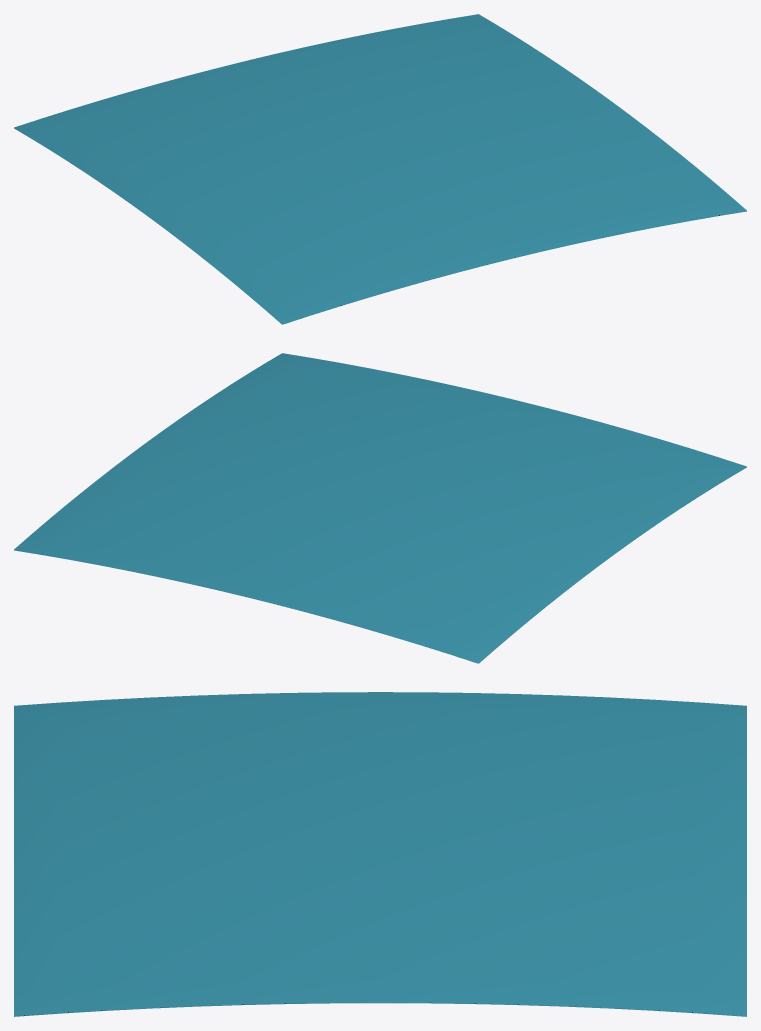
Rendered from planet_930_seabed_65536.glb.
The picture shows the model from 3 angles, top to bottom: view 1: azimuth 30°, elevation 25°; view 2: azimuth 150°, elevation 25°; view 3: azimuth 270°, elevation 25°; orthographic projection. The views are drawn at different scales.
Visible parts, largest first — view 1: planet_930_seabed_65536; view 2: planet_930_seabed_65536; view 3: planet_930_seabed_65536.
Boxes of the visible parts, x1=… form: planet_930_seabed_65536: x1=14, y1=14, x2=746, y2=324; planet_930_seabed_65536: x1=14, y1=353, x2=746, y2=663; planet_930_seabed_65536: x1=14, y1=692, x2=746, y2=1016.
Size of the model in its own units: 65536 by 2824 by 65536.
